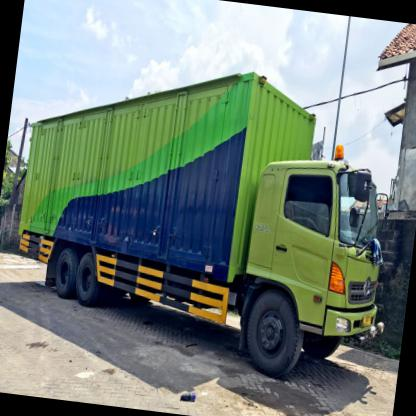truck: (230, 149, 396, 390)
